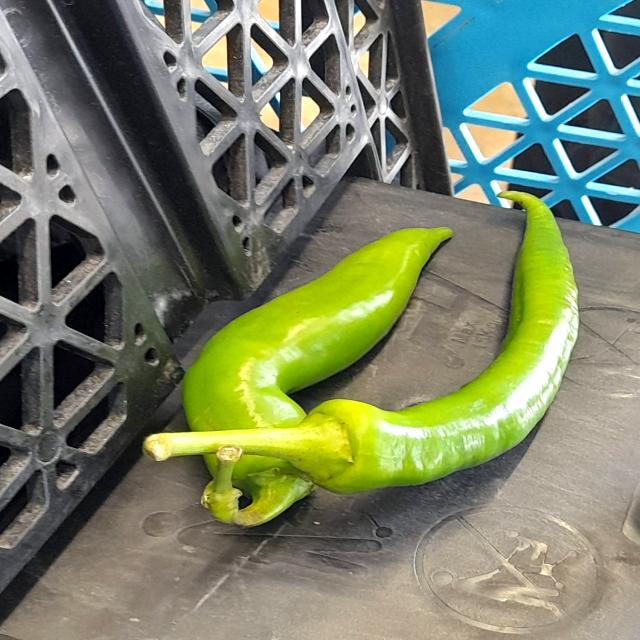green pepper: (258, 172, 578, 535), (170, 211, 466, 527)
